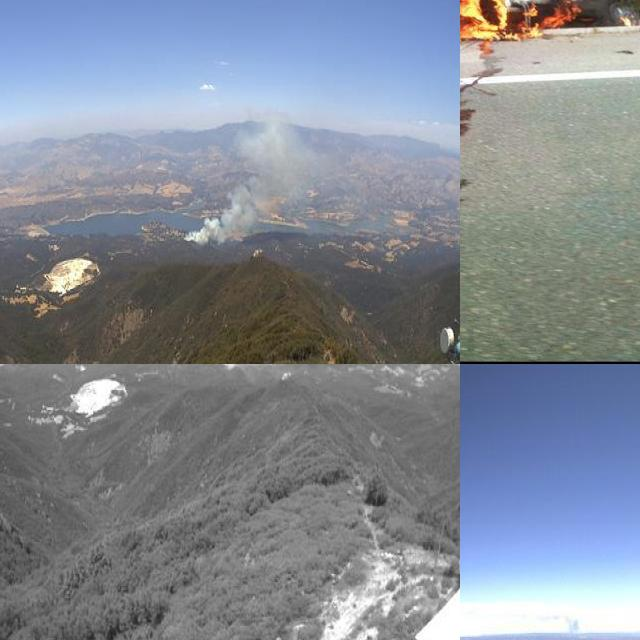smoke: (179, 109, 336, 253), (547, 610, 583, 636)
